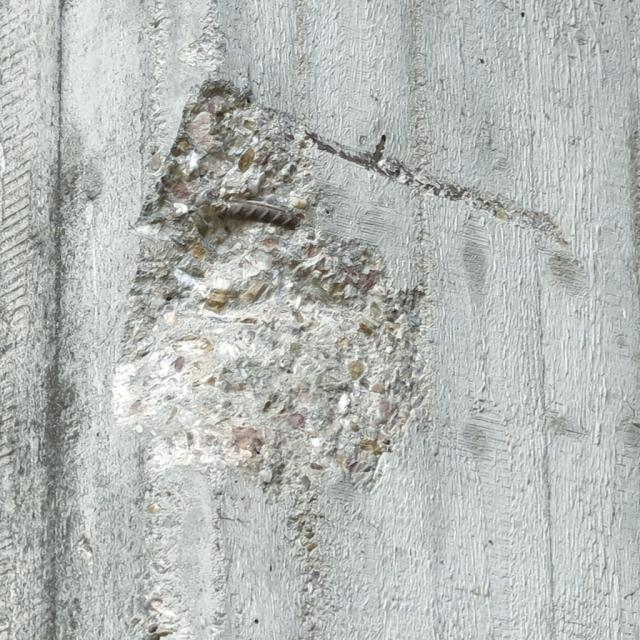D10: (122, 82, 433, 564)
